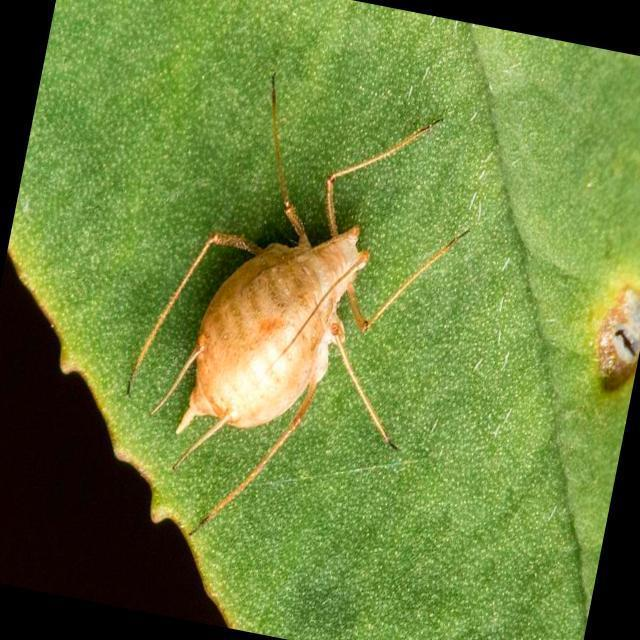aphid: (112, 64, 500, 558)
